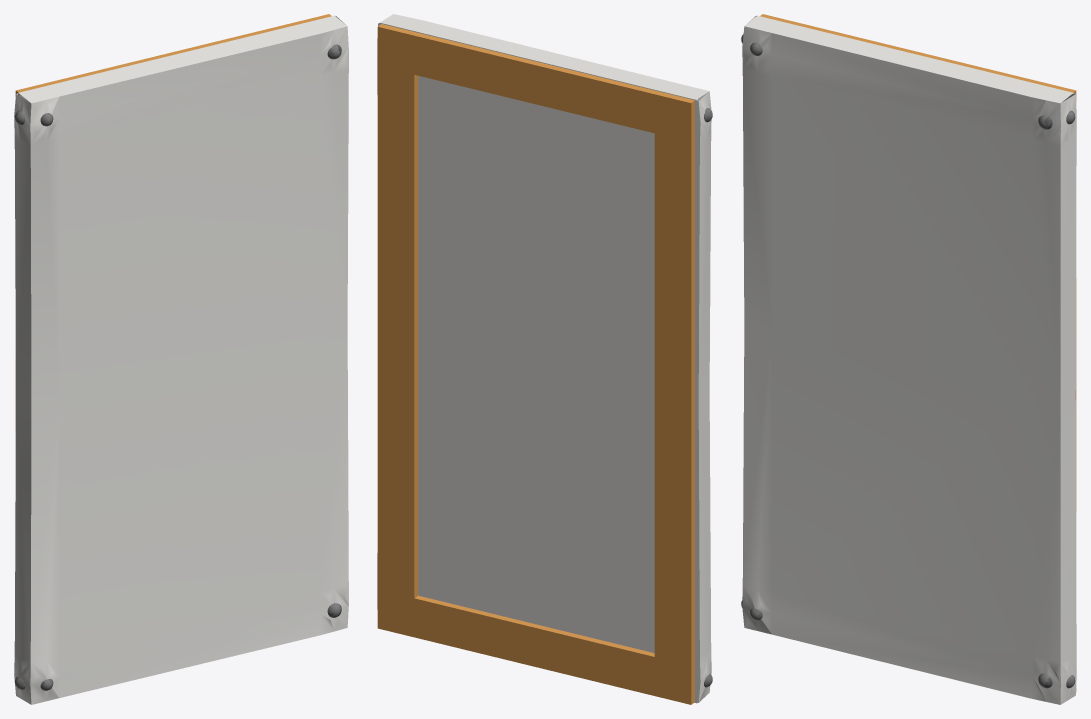
Rendered from Project Canvas.fbx.
3 views of the same model, side by side, from view 1: azimuth 30°, elevation 25°; view 2: azimuth 150°, elevation 25°; view 3: azimuth 330°, elevation 25° (orthographic).
Parts seen in each view (by area): view 1: Sphere.002, Cube; view 2: Sphere.002, Cube; view 3: Sphere.002, Cube.
Part boxes in pixels (x1=…): Sphere.002: x1=14, y1=15, x2=348, y2=704; Cube: x1=15, y1=14, x2=331, y2=431; Sphere.002: x1=377, y1=14, x2=712, y2=703; Cube: x1=377, y1=24, x2=694, y2=704; Sphere.002: x1=741, y1=15, x2=1076, y2=704; Cube: x1=760, y1=14, x2=1076, y2=691.
Size of the model in its own units: 211 by 368 by 23.72.
